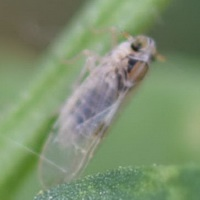insect: (38, 35, 155, 189), (39, 35, 155, 189)
